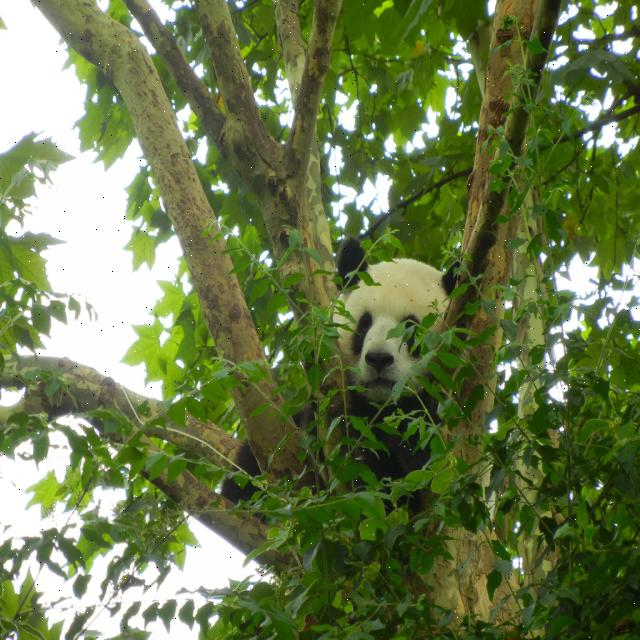panda: (216, 233, 474, 640)
